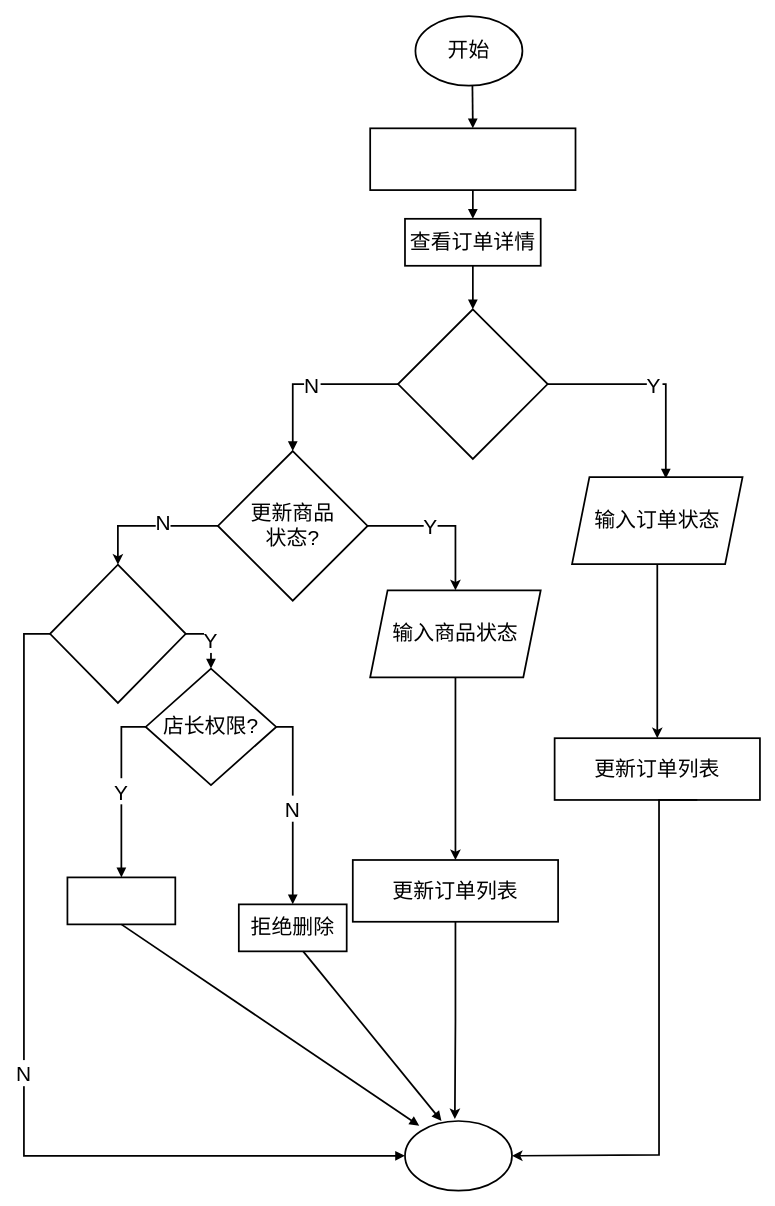
The diagram is 775 pixels wide and 1206 high, and some of its shapes have lost their labels. Each missing label, with the centre of its shape:
"删除订单?" goes at [117,633].
"执行删除" goes at [121,900].
"更新订单 状态?" goes at [472,383].
"结束" goes at [458,1155].
"进入订单管理并 查询列表" goes at [472,159].
